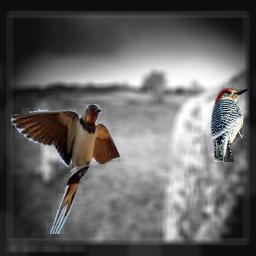Swallow: (11, 104, 121, 234)
Woodpecker: (209, 84, 251, 162)
